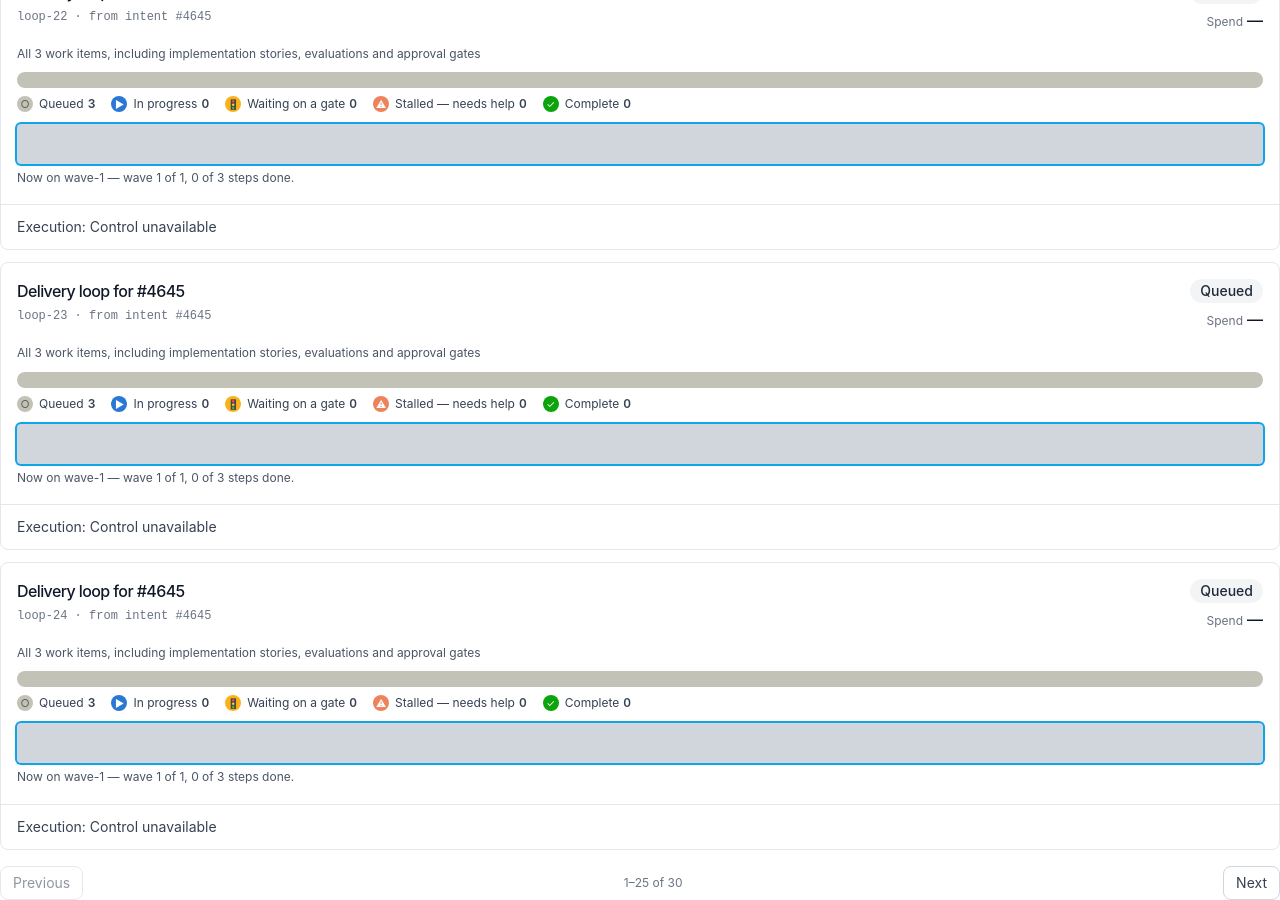
the status chips and the summary line › pages forward through the URL and disables Previous on the first page
(page scrolled)
Expected: the button with test id "flows-prev" is disabled, [0, 866, 83, 899]
Step 1. Click the button with test id "flows-next" → [1252, 883], box [1223, 866, 1279, 899]
(page scrolled)
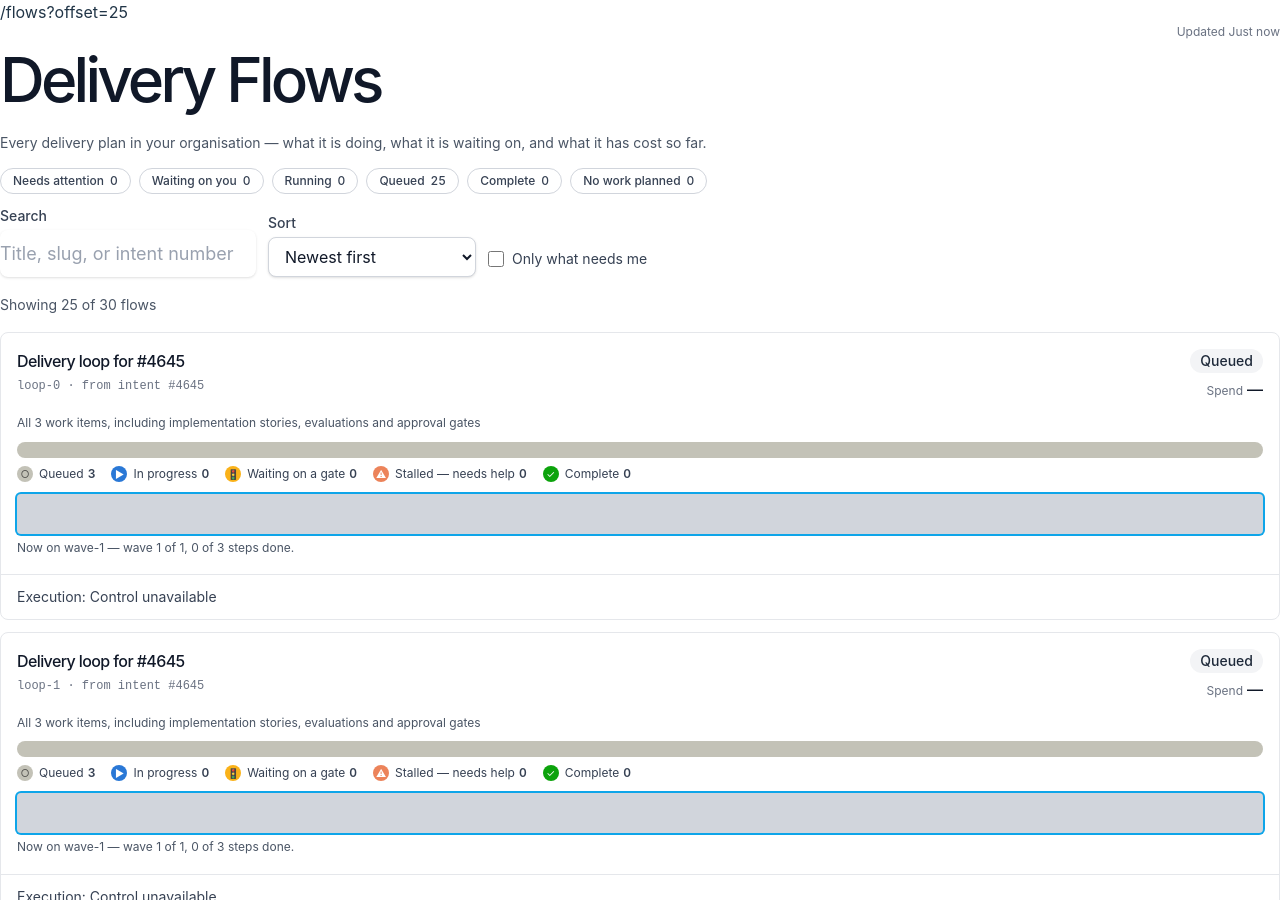
Now the text with test id "location" shows "offset=25", box [0, 2, 128, 22]
